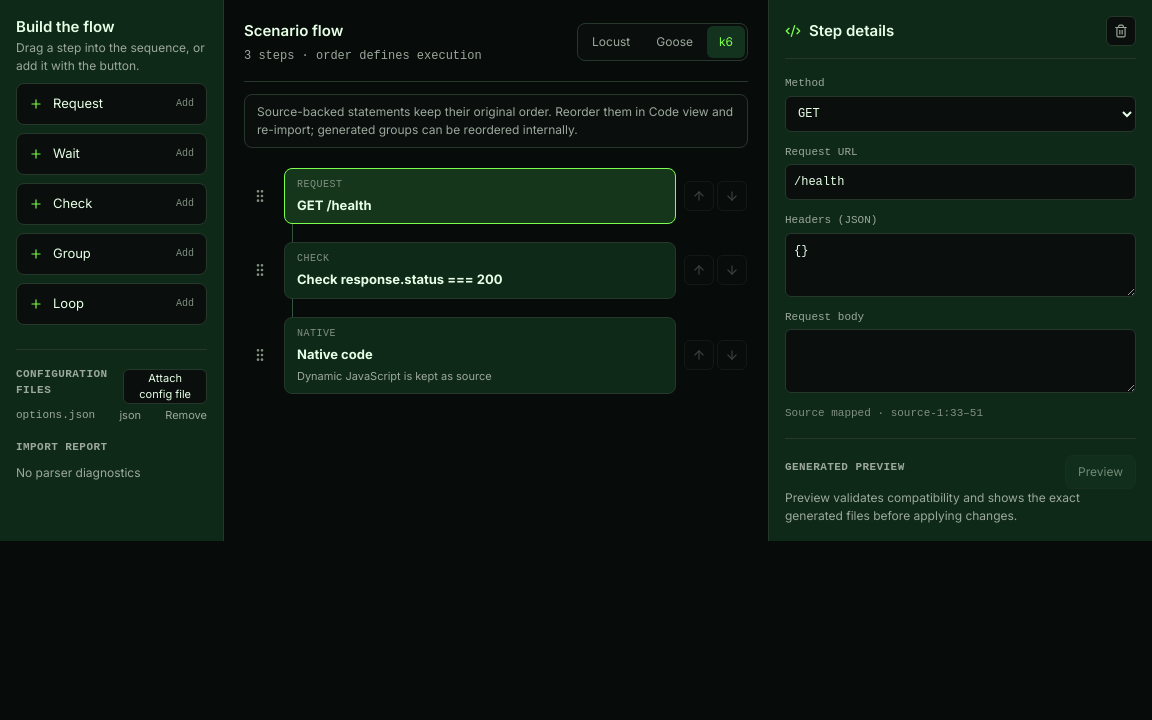
Test: ScenarioStudio › shows imported nodes, opaque source, config files, and all engine previews
Check: the button with aria-label "Select GET /health" is shown, box [284,168,676,224]
Check: the text "Dynamic JavaScript is kept as source" is shown, box [297,369,492,383]
Click the button with aria-label "Select Native code": [317, 333] box [284,316,676,394]
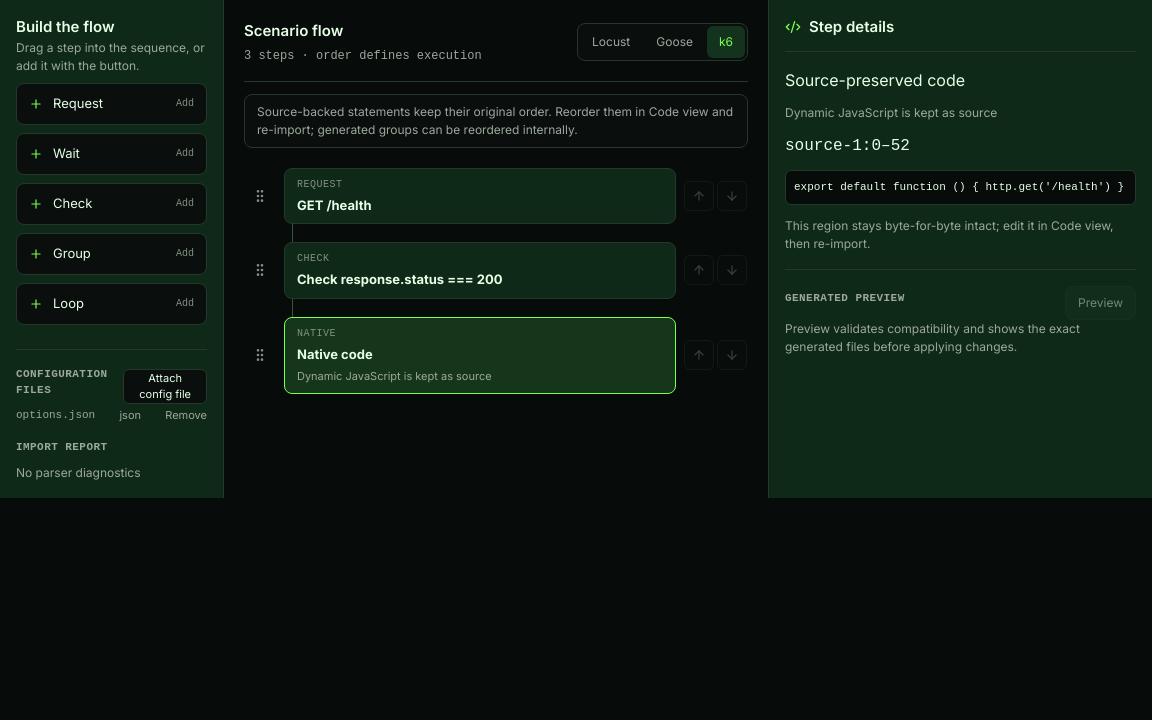
Check: the text "export default function () { http.get('/health') }" is shown, box [785,170,1136,204]
